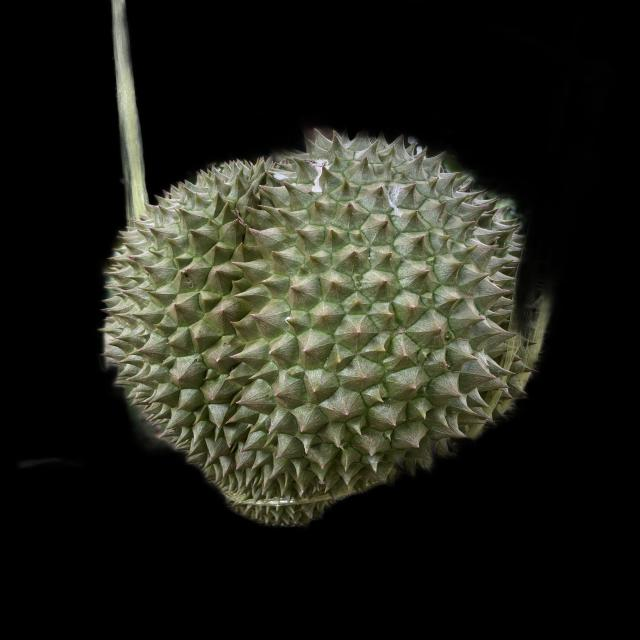immature: (97, 137, 534, 518)
